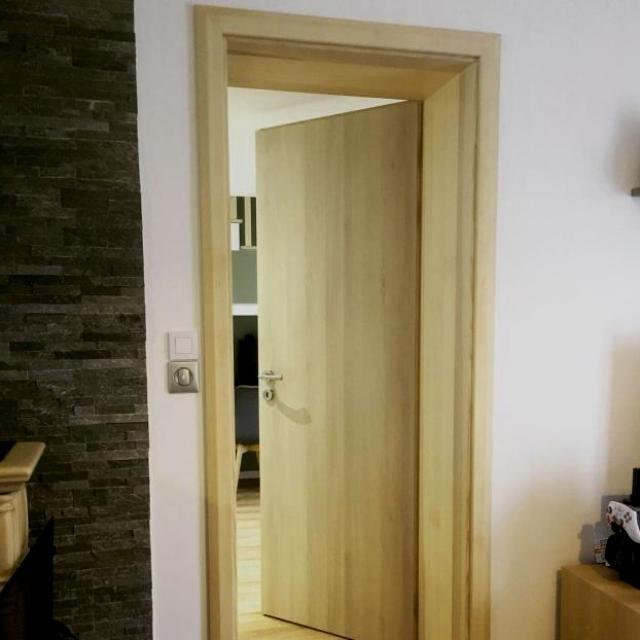door: (254, 98, 421, 638)
